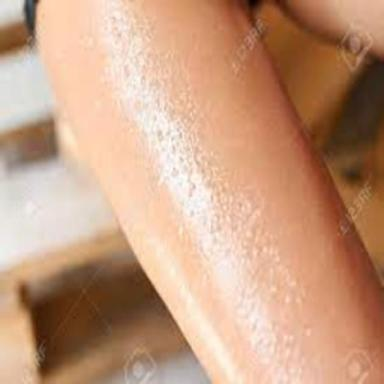normal skin: (37, 0, 384, 384)
